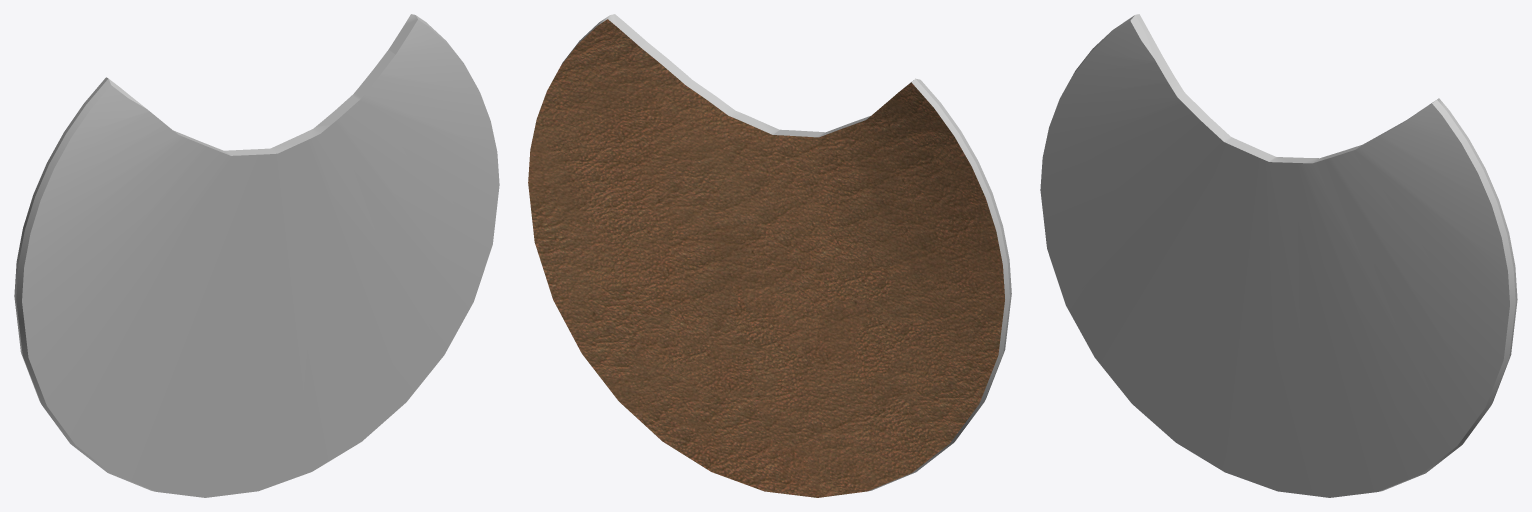
The model's file is persian shield.obj.
The picture shows the model from 3 angles, left to right: view 1: azimuth 30°, elevation 25°; view 2: azimuth 150°, elevation 25°; view 3: azimuth 330°, elevation 25°; orthographic projection.
Parts seen in each view (by area): view 1: Circle001; view 2: Circle001; view 3: Circle001.
Boxes of the visible parts, x1,y1,x2,y2 form: Circle001: [14, 14, 499, 497]; Circle001: [528, 14, 1011, 497]; Circle001: [1040, 14, 1517, 497].
Size of the model in its own units: 81.16 by 72.24 by 6.1.
